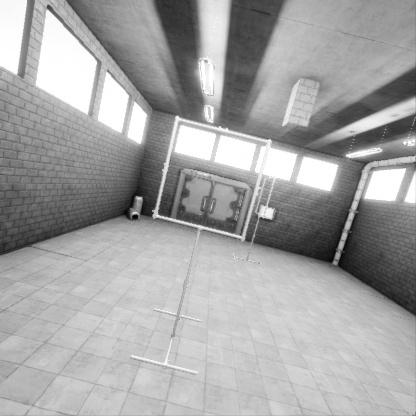gate: (160, 181, 278, 300), (256, 199, 276, 241)
